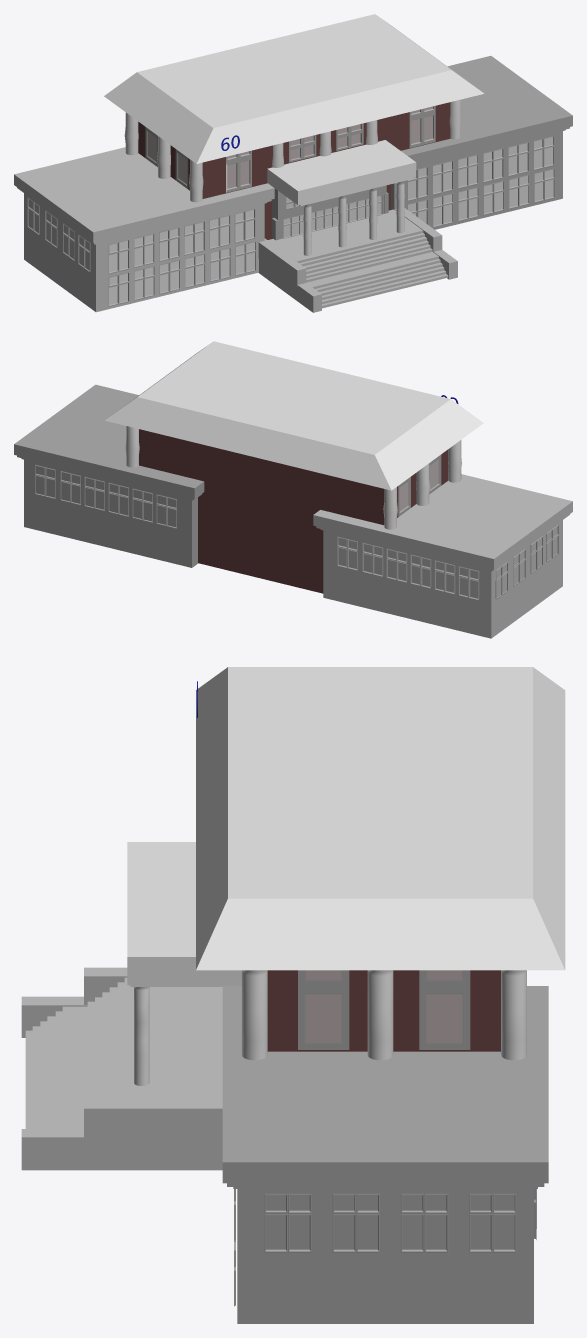
The model's file is 박물관 모델링 (1).fbx.
3 views of the same model, one above another, from view 1: azimuth 30°, elevation 25°; view 2: azimuth 150°, elevation 25°; view 3: azimuth 270°, elevation 25° (orthographic). The views are drawn at different scales.
Visible parts, largest first — view 1: pCube1, pCube6, pCube7, pasted__pPlane719, pasted__pPlane786, pCube2, pasted__pCube47, pasted__pCube48, group_pasted__pPlane695, pCube3, pasted__pPlane715, pasted__pCube46 (+12 smaller); view 2: pCube1, pCube6, pCube7, pasted__pPlane701, pCylinder12, pCylinder14, pCylinder3, pCylinder11; view 3: pCube1, pCube7, pasted__pCube47, pCube2, pasted__pPlane743, pasted__pCube50, pasted__pCube48, pasted__pCube45, pasted__pPlane751, pCylinder13, pCylinder6, pCylinder14 (+3 smaller).
Boxes of the visible parts, left/top/right/bottom form: pCube1: left=104, top=14, right=484, bottom=239; pCube6: left=14, top=147, right=274, bottom=312; pCube7: left=391, top=56, right=572, bottom=229; pasted__pPlane719: left=108, top=209, right=255, bottom=306; pasted__pPlane786: left=407, top=136, right=554, bottom=227; pCube2: left=267, top=140, right=416, bottom=206; pasted__pCube47: left=268, top=209, right=432, bottom=282; pasted__pCube48: left=306, top=252, right=448, bottom=308; group_pasted__pPlane695: left=226, top=106, right=435, bottom=192; pCube3: left=272, top=185, right=386, bottom=238; pasted__pPlane715: left=283, top=193, right=382, bottom=238; pasted__pCube46: left=258, top=238, right=306, bottom=286; pCube1: left=105, top=341, right=483, bottom=593; pCube6: left=313, top=474, right=572, bottom=638; pCube7: left=14, top=384, right=204, bottom=567; pasted__pPlane701: left=398, top=454, right=441, bottom=516; pCylinder12: left=383, top=487, right=397, bottom=529; pCylinder14: left=125, top=426, right=139, bottom=467; pCylinder3: left=448, top=440, right=461, bottom=482; pCylinder11: left=416, top=463, right=429, bottom=505; pCube1: left=196, top=667, right=565, bottom=1051; pCube7: left=222, top=986, right=548, bottom=1323; pasted__pCube47: left=87, top=977, right=222, bottom=1099; pCube2: left=127, top=842, right=241, bottom=986; pasted__pPlane743: left=298, top=970, right=470, bottom=1049; pasted__pCube50: left=21, top=1129, right=222, bottom=1170; pasted__pCube48: left=25, top=1006, right=87, bottom=1128; pasted__pCube45: left=84, top=1100, right=222, bottom=1137; pasted__pPlane751: left=264, top=1193, right=516, bottom=1252; pCylinder13: left=367, top=970, right=393, bottom=1060; pCylinder6: left=241, top=970, right=267, bottom=1060; pCylinder14: left=501, top=970, right=526, bottom=1060.
Size of the model in its own units: 29.87 by 9.44 by 14.71.
